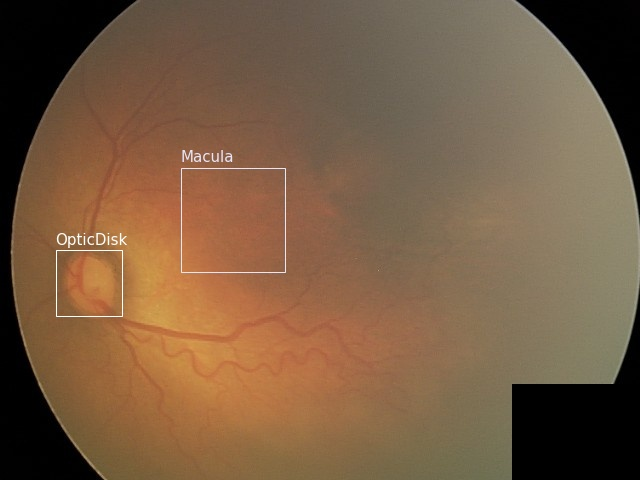Macula: (180, 167, 284, 271)
OpticDisk: (55, 249, 121, 315)
